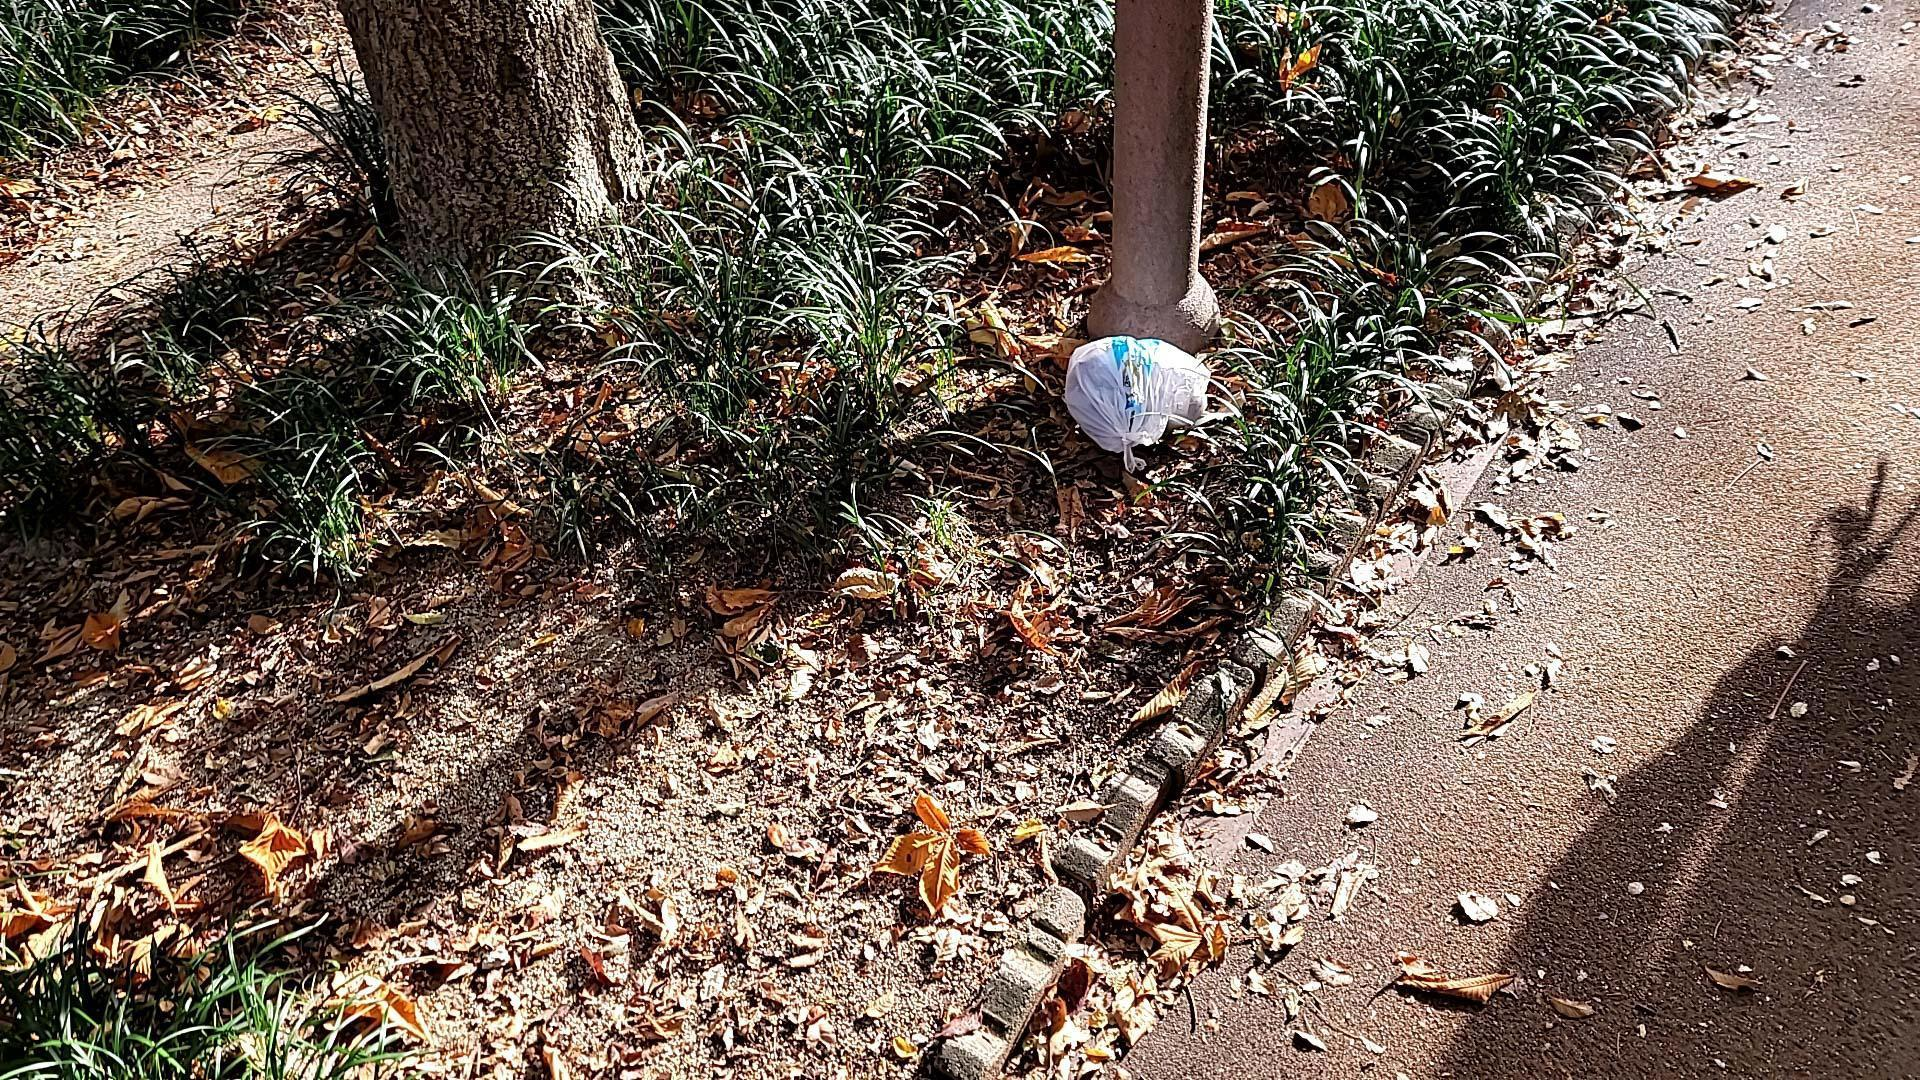white_bag: (1046, 330, 1215, 467)
